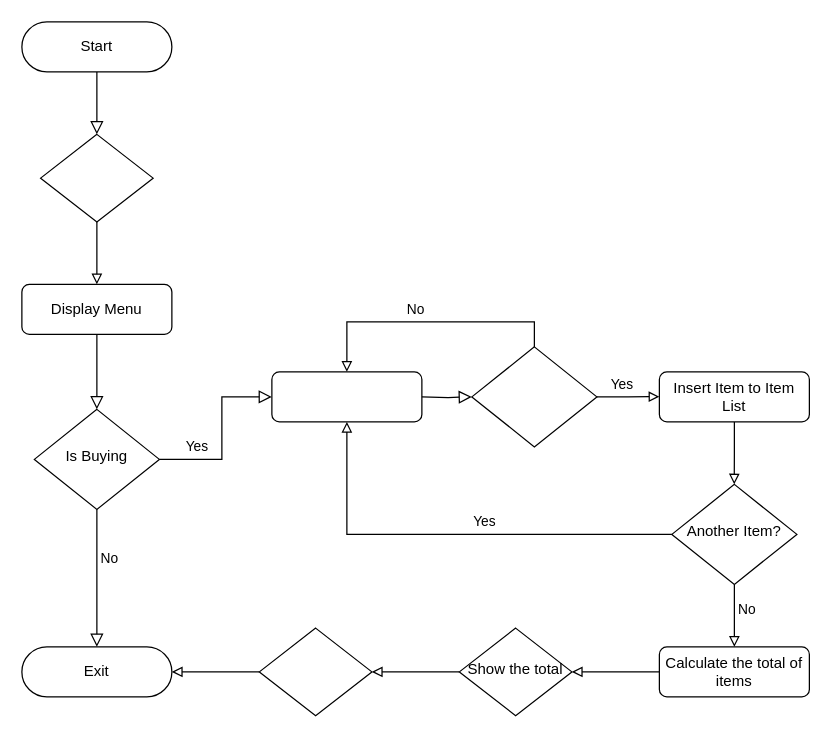
This 831x738 diagram has some shape labels left out. The centre of each missing label's shape, as x and y in pixels:
"Bye Message" belongs at [315,671].
"Input Item No." belongs at [346,396].
"Is Number And Exist" belongs at [534,396].
"Welcome Message" belongs at [96,177].
